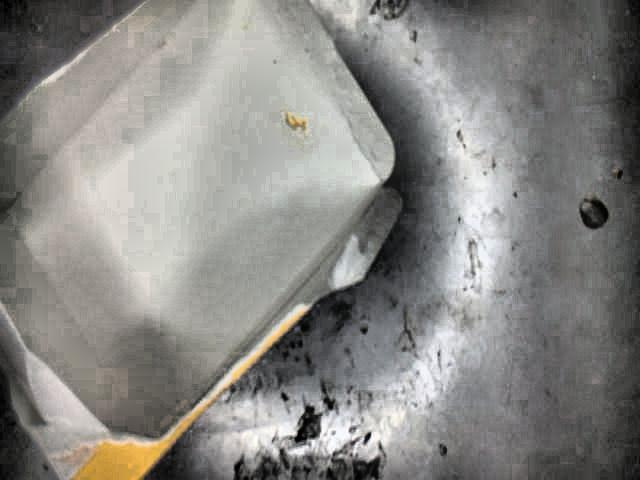Paper: (2, 1, 405, 480)
